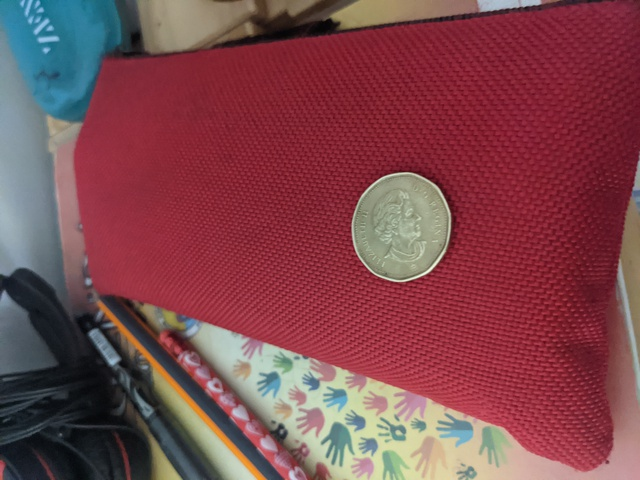loonie: (342, 167, 456, 296)
